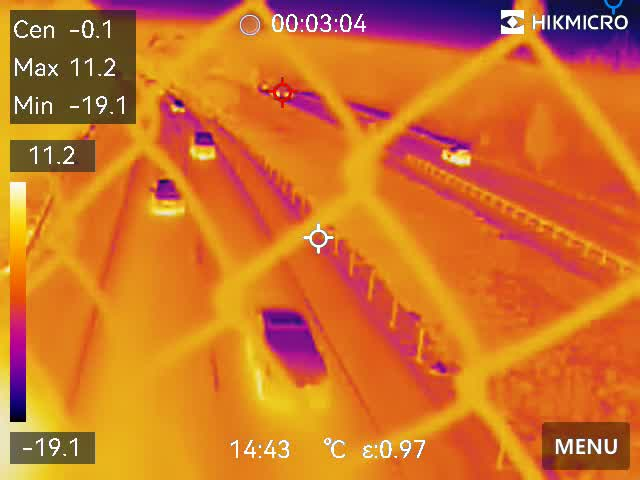vehicle: (252, 304, 330, 404), (145, 174, 189, 223), (186, 126, 222, 166), (438, 144, 474, 164), (167, 98, 191, 119)
